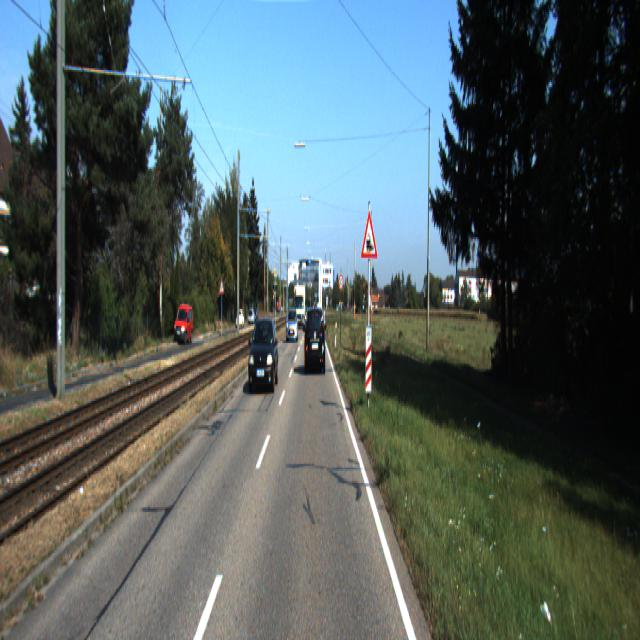Car: (248, 312, 280, 394), (305, 306, 326, 376), (174, 305, 193, 347), (286, 307, 298, 343)
